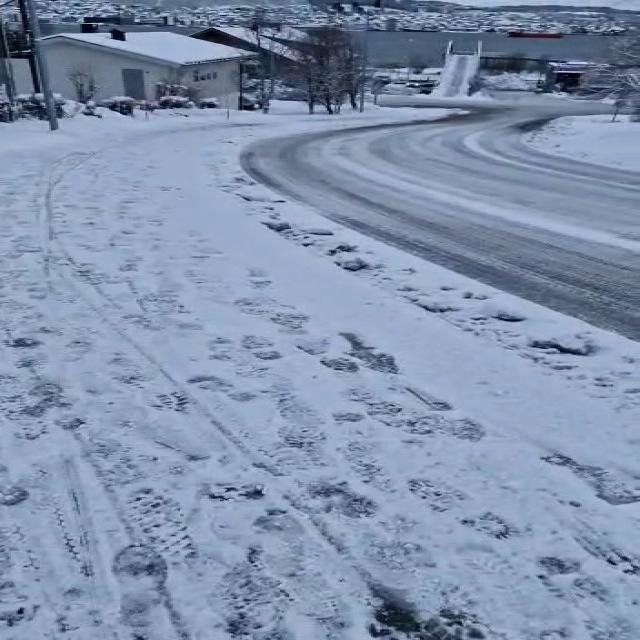path: (242, 93, 640, 338)
